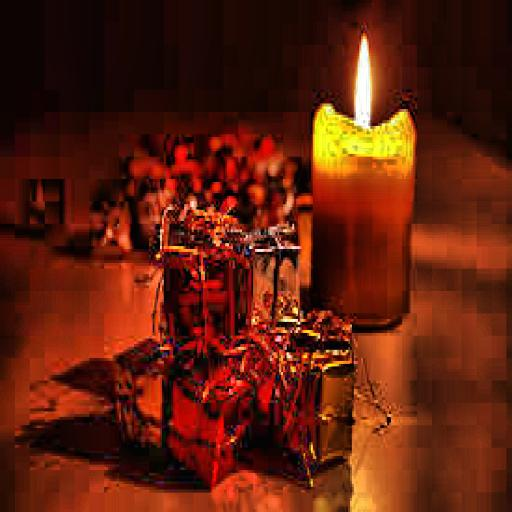fire: (350, 28, 374, 129)
